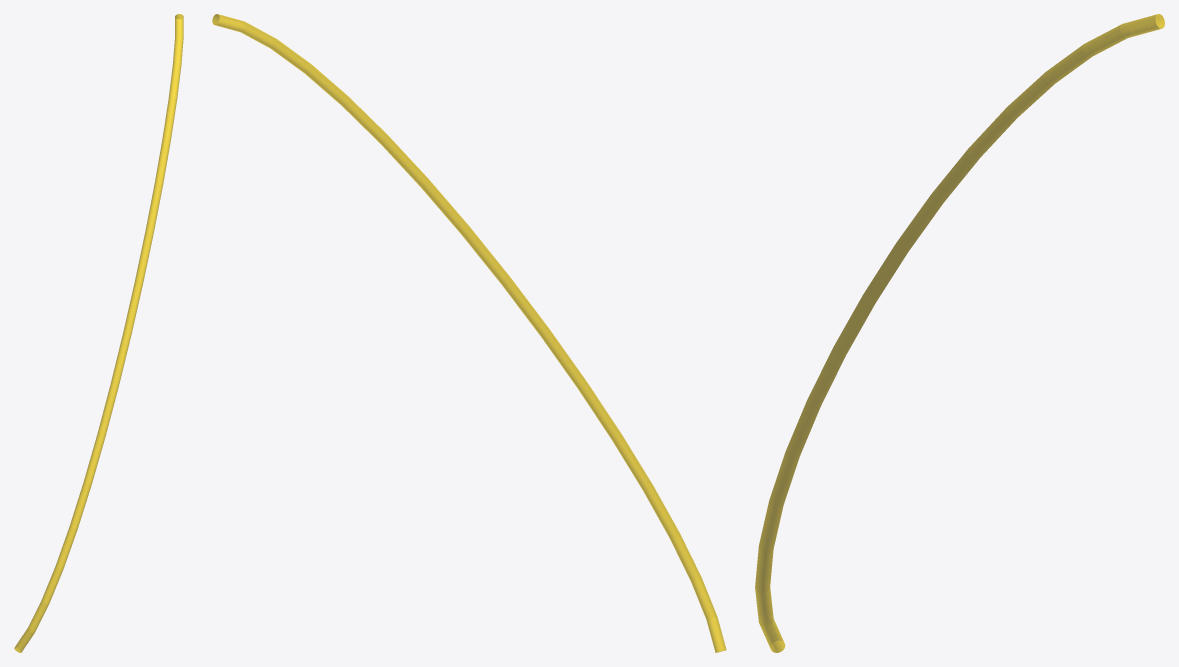
File: Event_75125125_track_8.fbx
The picture shows the model from 3 angles, left to right: view 1: azimuth 30°, elevation 25°; view 2: azimuth 150°, elevation 25°; view 3: azimuth 270°, elevation 25°; orthographic projection. The views are drawn at different scales.
Parts seen in each view (by area): view 1: Model; view 2: Model; view 3: Model.
Part boxes in pixels (x1,y1,x2,y2): Model: [14, 14, 183, 652]; Model: [212, 14, 726, 652]; Model: [755, 14, 1164, 652].
Bounding box in the file's own units: 1.48 × 2.52 × 1.08.
